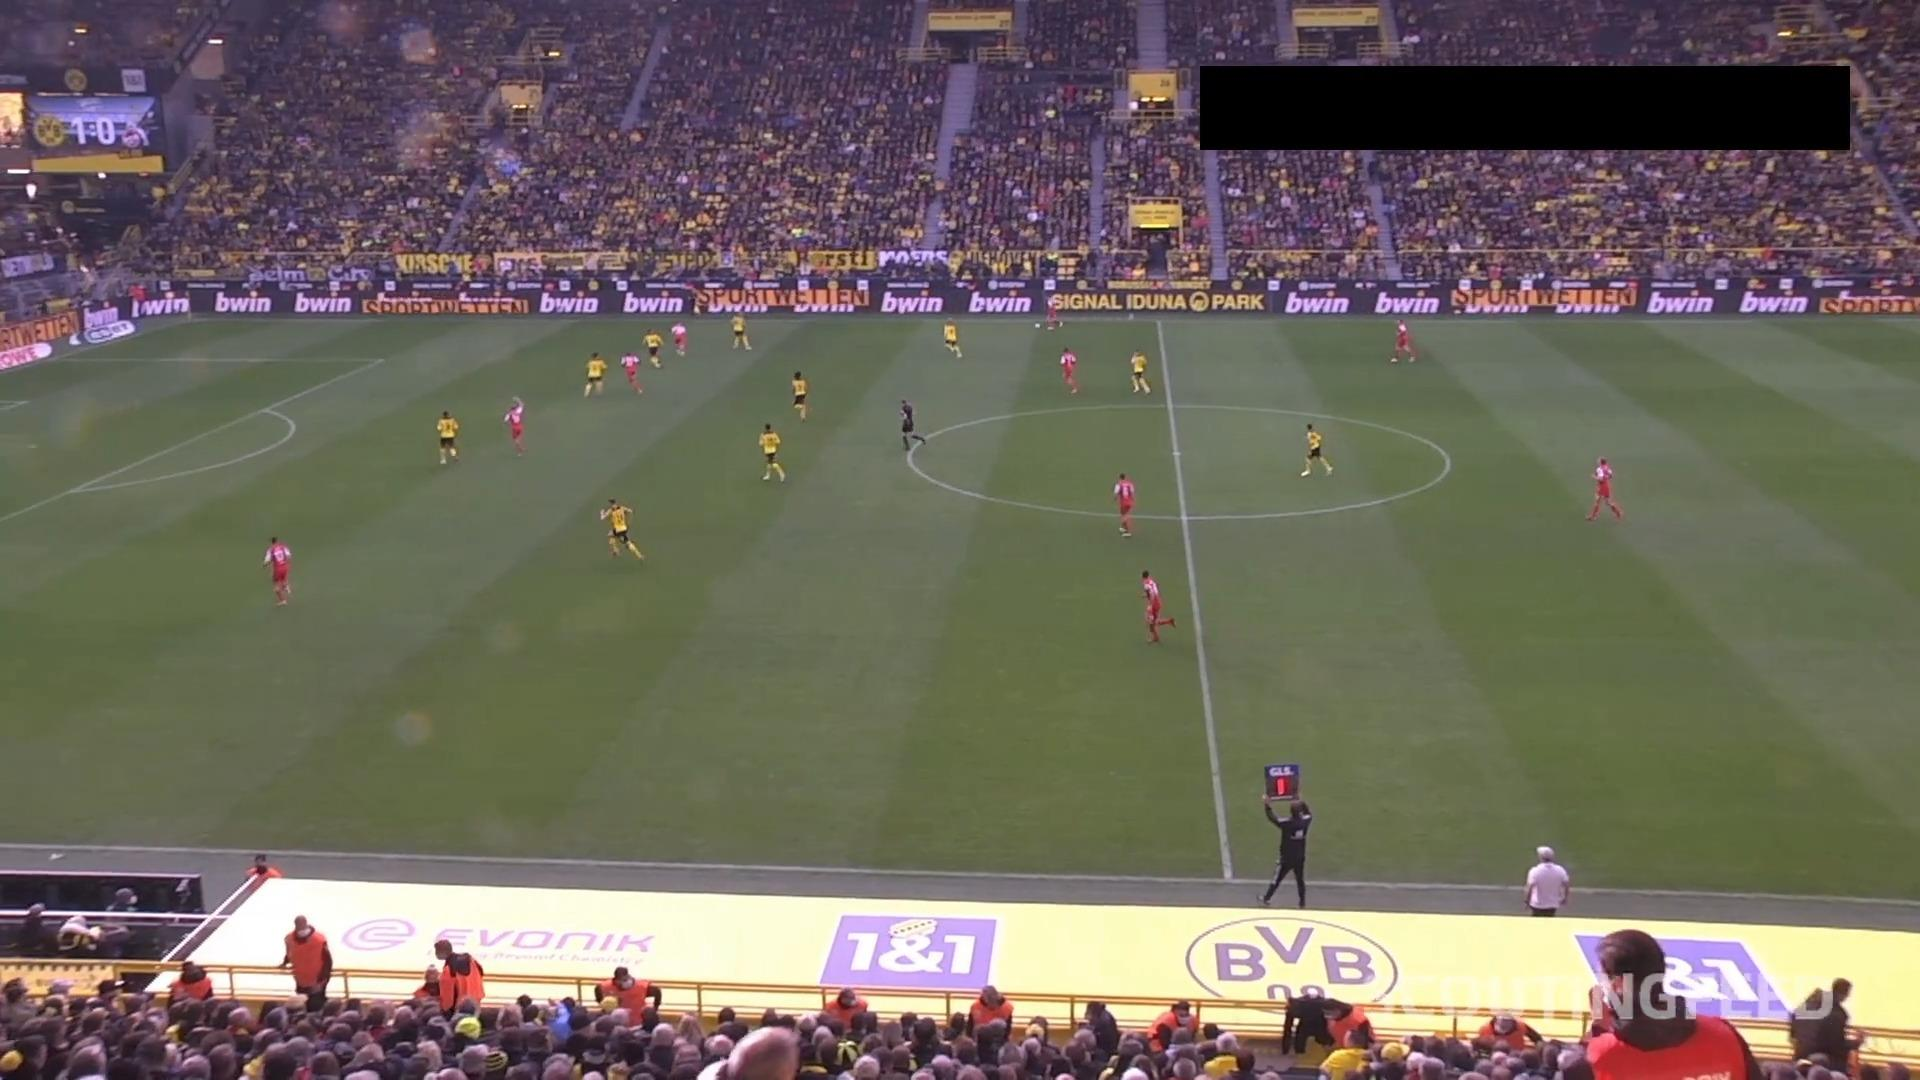ball: (1034, 322, 1042, 330)
